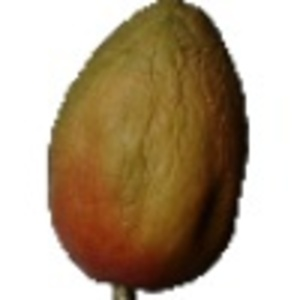mamão: (30, 2, 255, 287)
